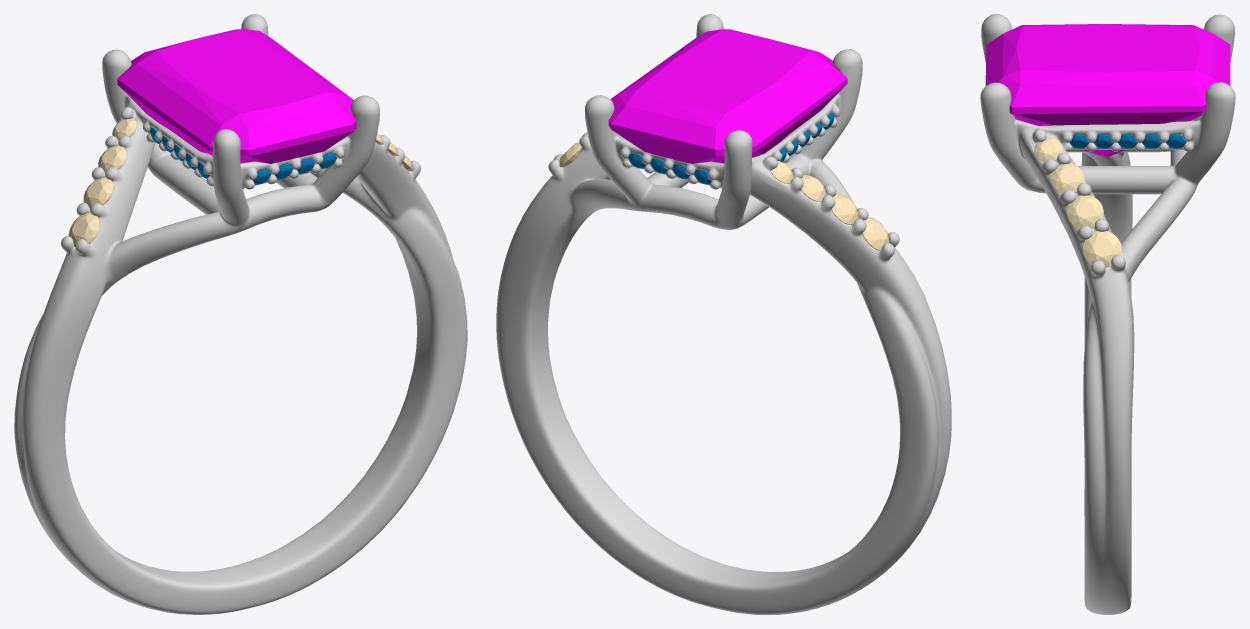
The model's file is BE1D288_RA_200ct_RENDER.glb.
3 views of the same model, side by side, from view 1: azimuth 30°, elevation 25°; view 2: azimuth 150°, elevation 25°; view 3: azimuth 270°, elevation 25° (orthographic).
Parts seen in each view (by area): view 1: Metal 01, CS_Diamond_Radiant, Diamond_Round_Gem_SH, Diamond_Round_Gem_SH.001; view 2: Metal 01, CS_Diamond_Radiant, Diamond_Round_Gem_SH; view 3: Metal 01, CS_Diamond_Radiant, Diamond_Round_Gem_SH.004, Diamond_Round_Gem_SH.005, Diamond_Round_Gem_SH.007, Diamond_Round_Gem_SH.006.
Boxes of the visible parts, x1,y1,x2,y2 form: Metal 01: (14,14,467,614); CS_Diamond_Radiant: (117,29,356,163); Diamond_Round_Gem_SH: (68,212,99,246); Diamond_Round_Gem_SH.001: (83,177,113,207); Metal 01: (496,14,951,614); CS_Diamond_Radiant: (608,29,847,163); Diamond_Round_Gem_SH: (862,217,889,251); Metal 01: (980,14,1235,614); CS_Diamond_Radiant: (985,24,1230,156); Diamond_Round_Gem_SH.004: (1083,231,1121,267); Diamond_Round_Gem_SH.005: (1067,195,1103,228); Diamond_Round_Gem_SH.007: (1050,163,1084,193); Diamond_Round_Gem_SH.006: (1034,137,1062,162).
Bounding box in the file's own units: 19.96 × 22.96 × 9.79.
